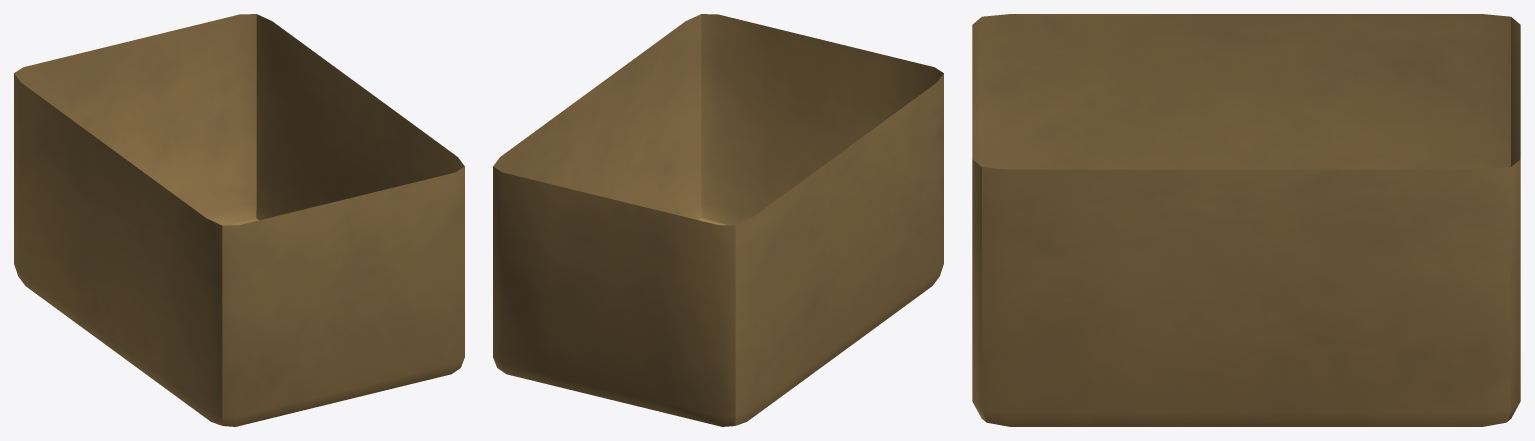
Rendered from PlatformTall Height EXT Bottom.fbx.
The picture shows the model from 3 angles, left to right: view 1: azimuth 30°, elevation 25°; view 2: azimuth 150°, elevation 25°; view 3: azimuth 270°, elevation 25°; orthographic projection. The views are drawn at different scales.
Parts seen in each view (by area): view 1: PlatformTall Height EXT Bottom; view 2: PlatformTall Height EXT Bottom; view 3: PlatformTall Height EXT Bottom.
Boxes of the visible parts, <box> form: PlatformTall Height EXT Bottom: <box>14,14,464,426</box>; PlatformTall Height EXT Bottom: <box>493,14,943,426</box>; PlatformTall Height EXT Bottom: <box>972,14,1520,426</box>.
Bounding box in the file's own units: 25 × 37.19 × 19.88.
